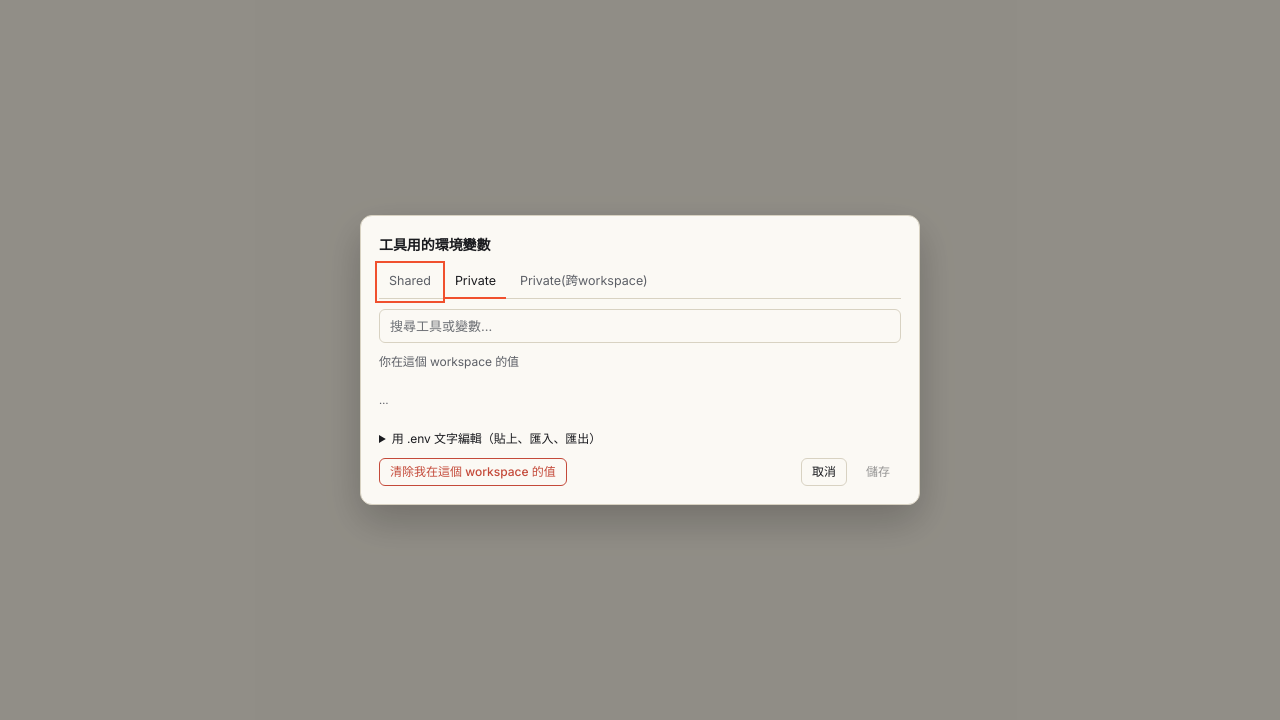
Test: the Private(跨workspace) tab › does not let Save write the row over a read that failed
What coordinates should you click on to do the following:
click the tab with test id "env-tab-personal"
I would click on:
 (584, 282)
Its box is [510,265,658,299].
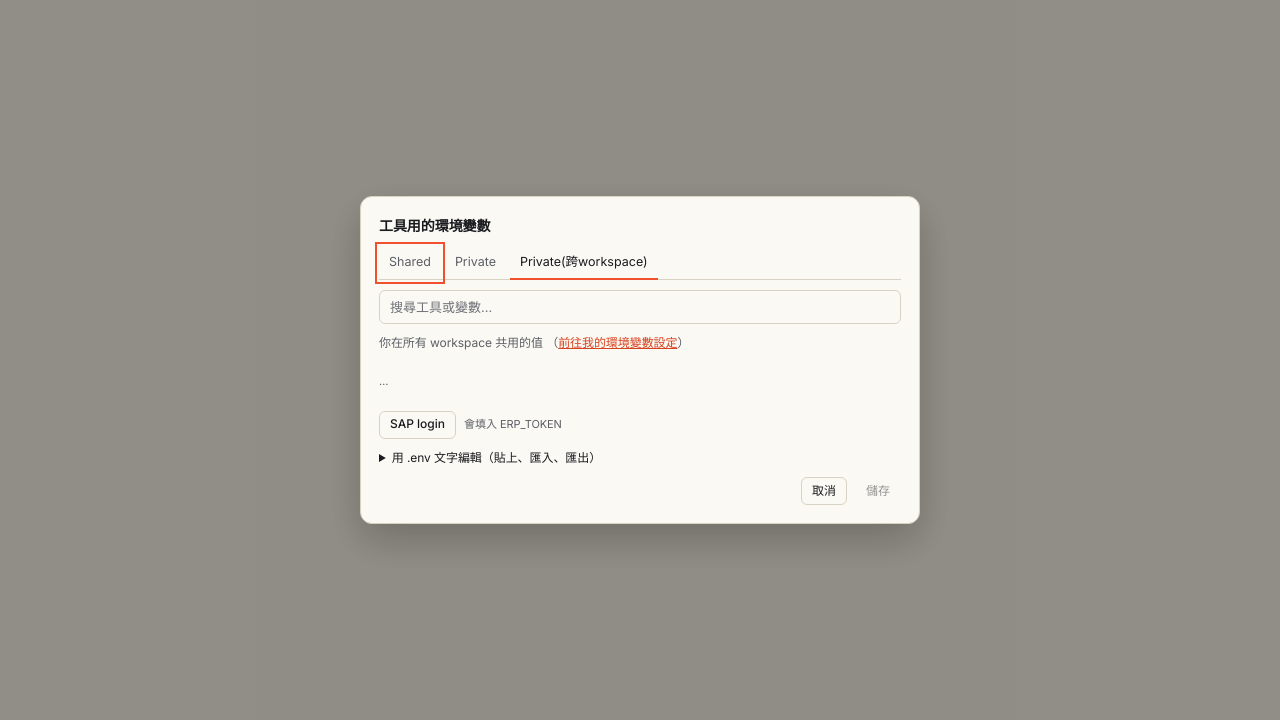
Expected: the button with test id "env-personal-save" is disabled, [855,477,901,505]
